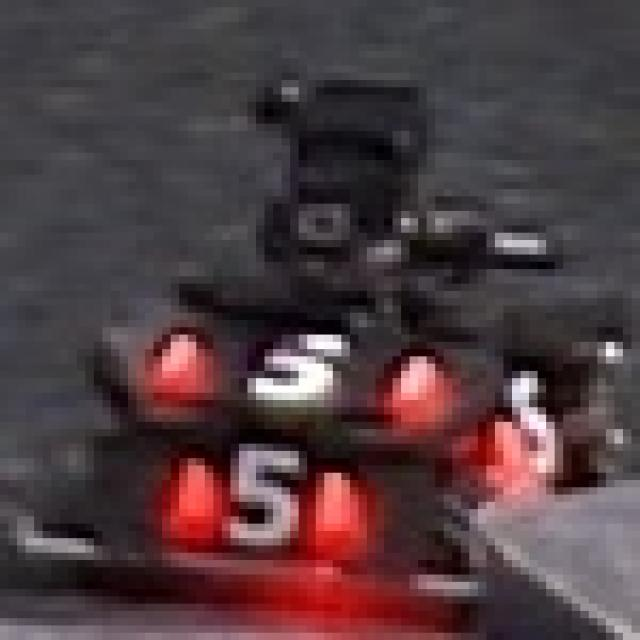R5: (154, 312, 444, 414), (162, 436, 341, 553), (486, 356, 580, 480)
